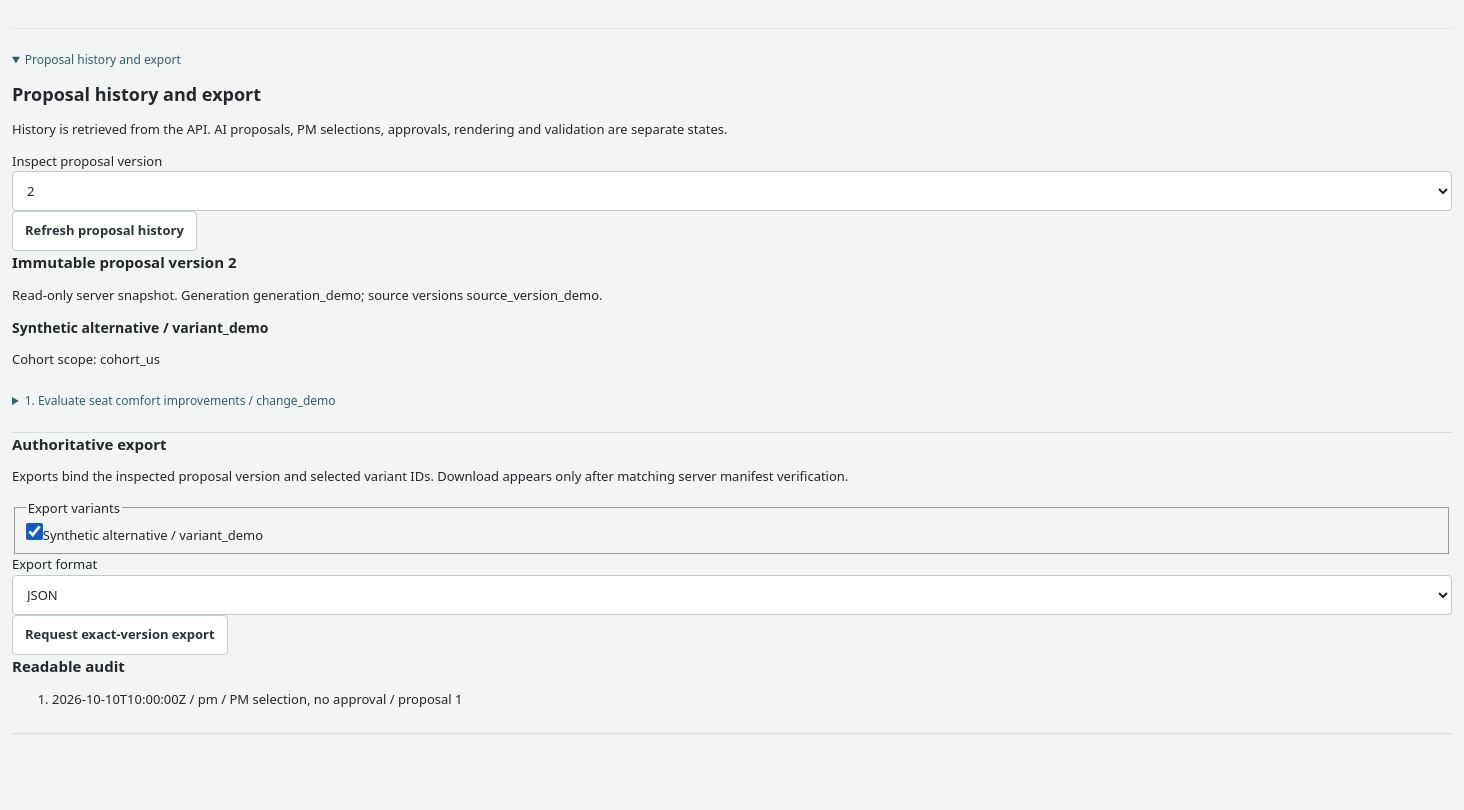
Test: loads exact immutable server versions identified by audit rather than browser-owned history
Expected: the heading "Immutable proposal version 2" is shown, [12,252,236,272]
Select "1" in the dropdown labelled "Inspect proposal version" at (732, 191), box [12,171,1452,211]
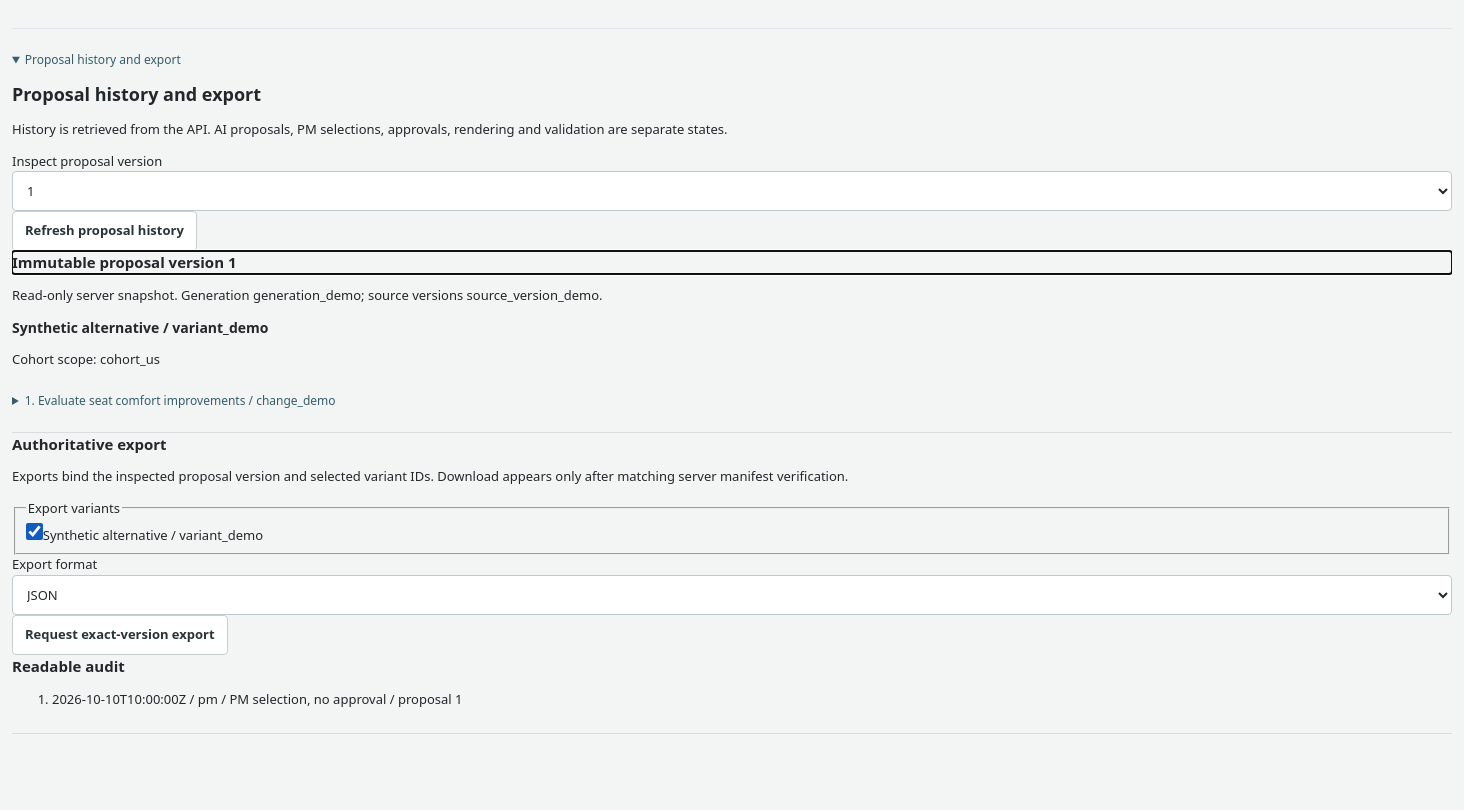
Expected: the list item "PM selection, no approval" is shown, [230,690,386,708]
Expected: the heading "Immutable proposal version 1" is shown, [12,252,236,272]
